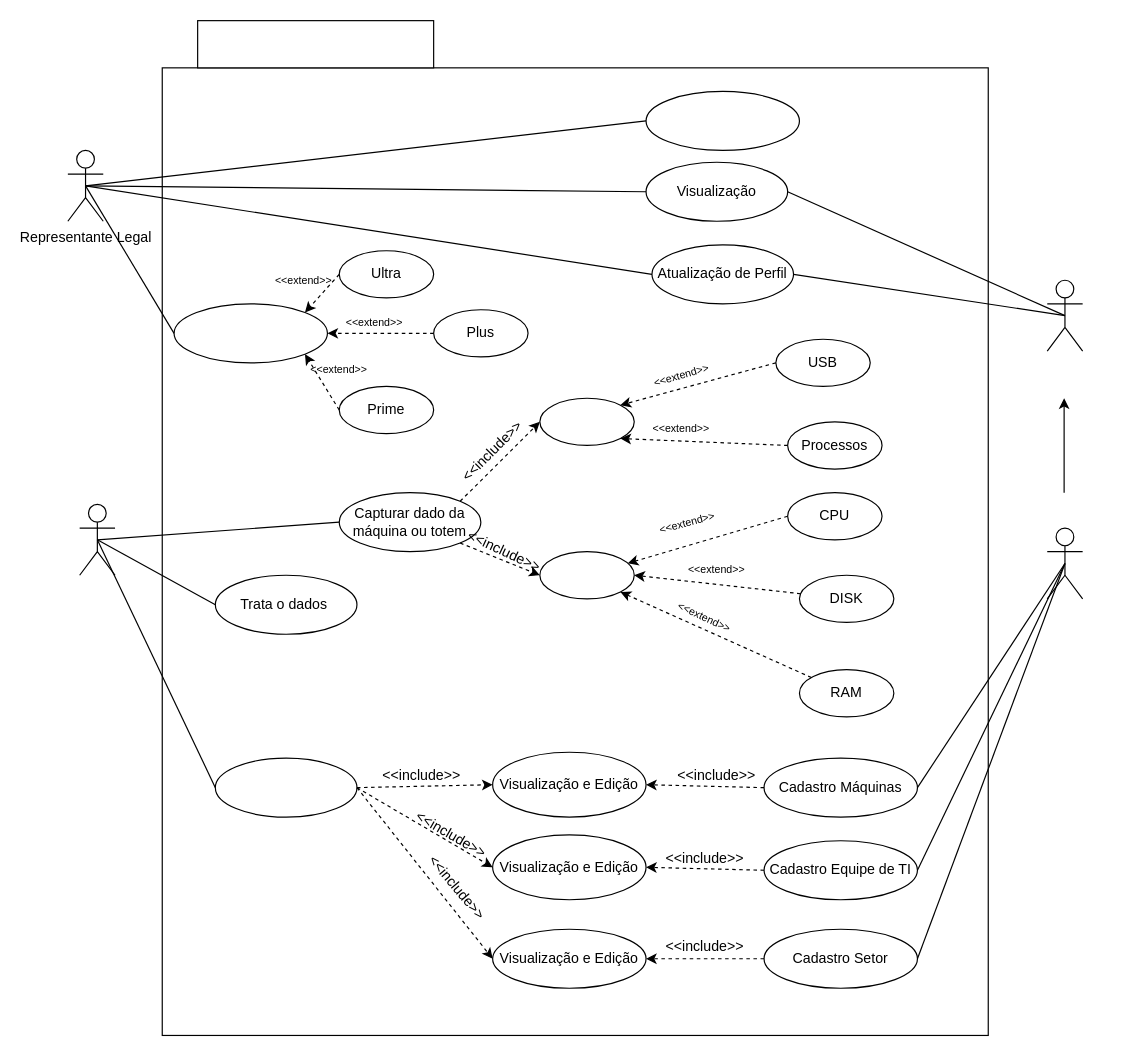
The diagram is 1129 pixels wide and 1056 high, and some of its shapes have lost their labels. The shapes that lost their labels are listed below. From the top down, each one's centre as x and y in pixels, then its label:
pixel 315 43: Sistema da Heath Touch
pixel 722 120: Cadastro Gerente de Ti
pixel 250 333: Escolhe Plano
pixel 1064 315: Equipe de TI
pixel 586 421: API Kotlin
pixel 96 539: Health Touch
pixel 586 574: API Python
pixel 1064 563: Gerente de TI
pixel 285 787: Mostrar dados via dashbord
